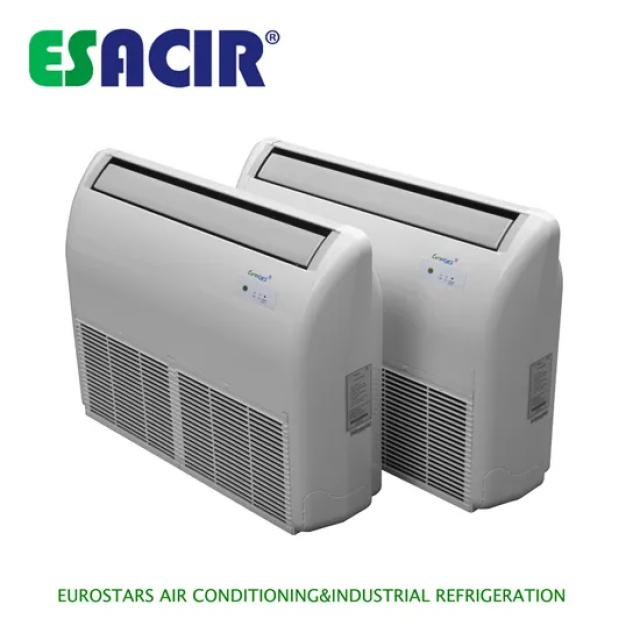electronics: (67, 150, 381, 532), (240, 140, 560, 509), (28, 28, 263, 86), (268, 29, 278, 37)
